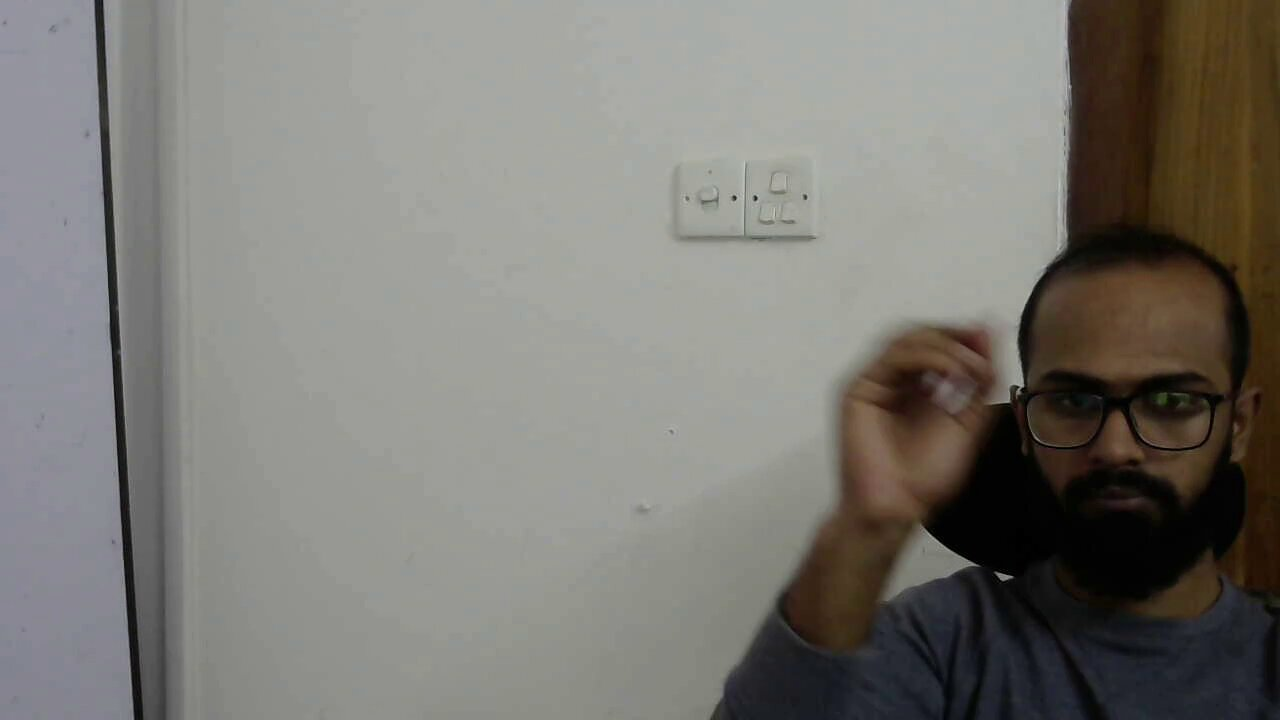pointer: (850, 326, 999, 470)
